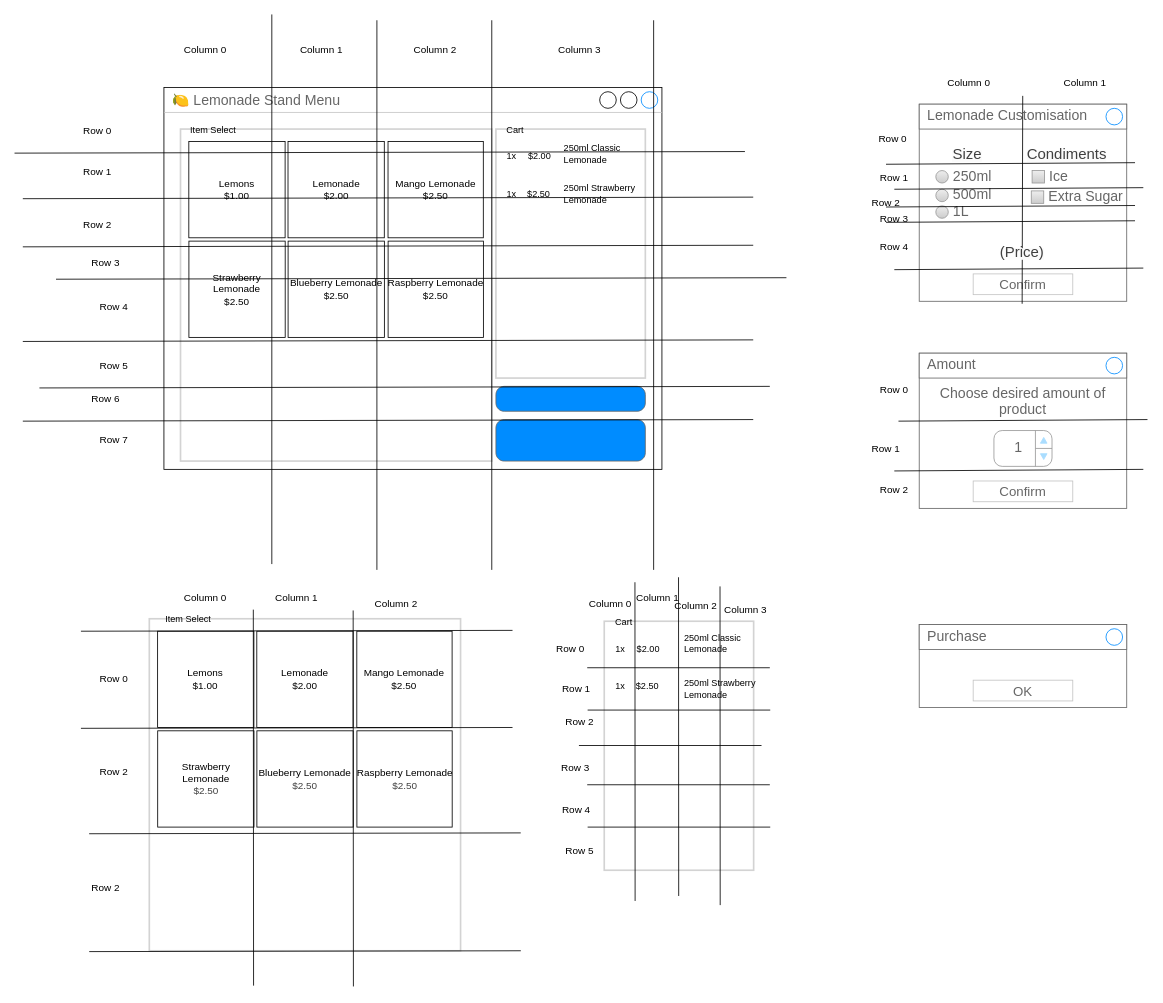
Image size: 1163x1003. Some labels were removed from this diagram. The shapes that lost their labels are listed below. From the top down, each one's centre as x and y in pixels, then its label:
At (570,398): "Clear Cart".
At (570,440): "Purchase $4.50".
At (1022,666): "Thank You for your purchase".
